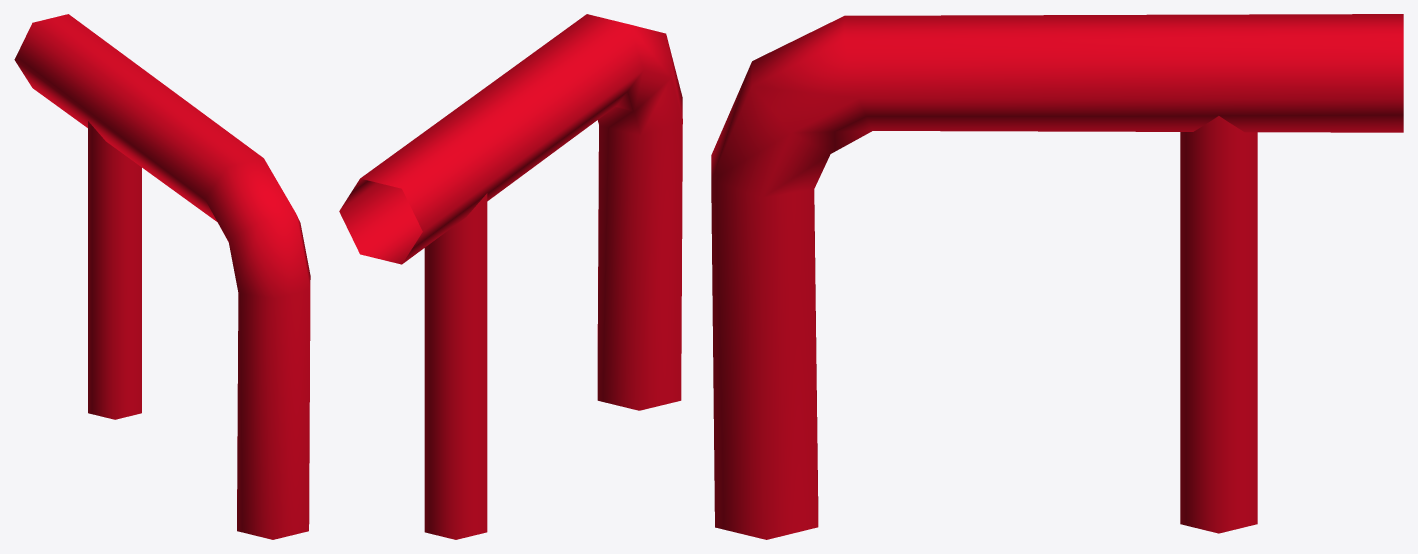
File: V2_Pipemetal1.fbx
3 renders of one model, left to right at view 1: azimuth 30°, elevation 25°; view 2: azimuth 150°, elevation 25°; view 3: azimuth 270°, elevation 25°, orthographic. The views are drawn at different scales.
Visible parts, largest first — view 1: V2_Pipemetal1; view 2: V2_Pipemetal1; view 3: V2_Pipemetal1.
Boxes of the visible parts, bbox=[...] form: V2_Pipemetal1: bbox=[14, 14, 310, 539]; V2_Pipemetal1: bbox=[339, 14, 682, 539]; V2_Pipemetal1: bbox=[711, 14, 1403, 539].
Size of the model in its own units: 0.2304 by 1.04 by 1.34.
